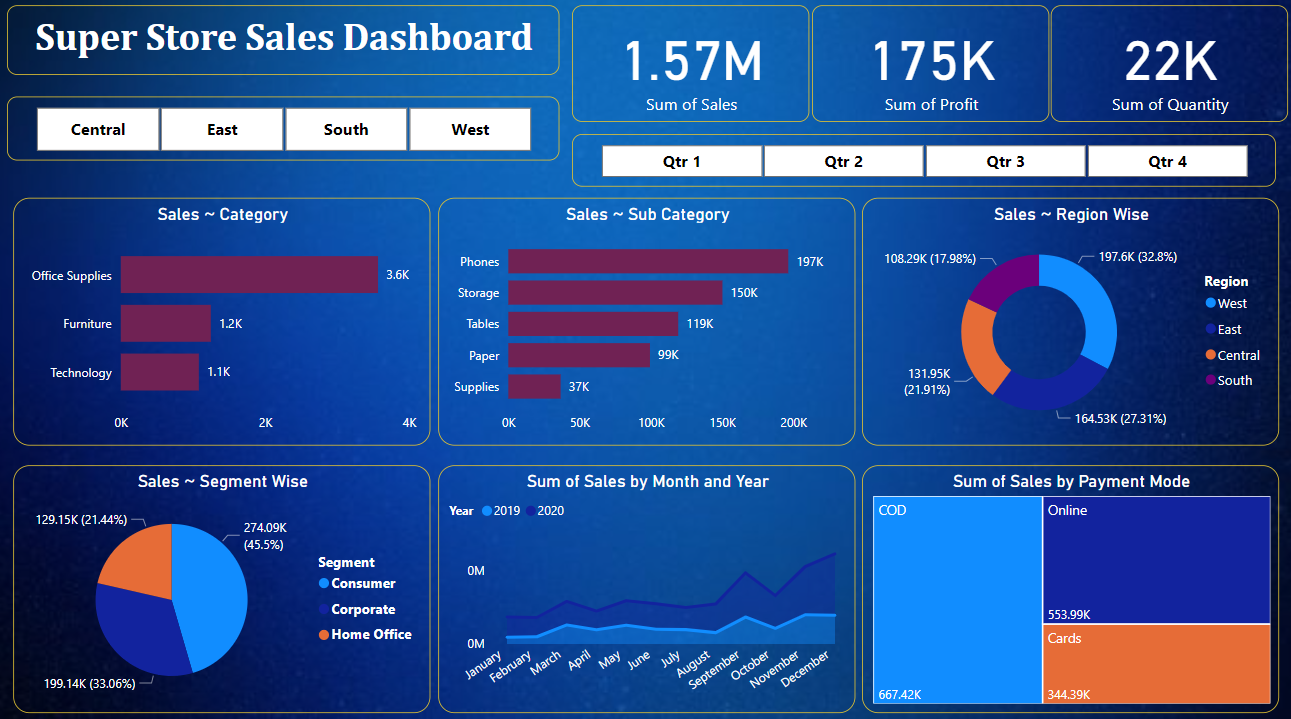

What the dashboard file says about the page in this screenshot:
{"tool":"powerbi","page":{"name":"Page 1","canvas":[1280,720],"ordinal":0},"visuals":[{"type":"clusteredBarChart","title":"Sales ~ Category","fields":{"Category":["Table1.Category"],"Y":["CountNonNull(Table1.Sales)"]},"box":[16,196.3,412.3,244.4],"z":0},{"type":"clusteredBarChart","title":"Sales ~ Sub Category","fields":{"Category":["Super Store Sales Dashboard.Sub-Category"],"Y":["Sum(Super Store Sales Dashboard.Sales)"]},"box":[435.8,196.3,412.3,244.4],"z":1000},{"type":"pieChart","title":"Sales ~ Segment Wise","fields":{"Y":["Sum(Super Store Sales Dashboard.Sales)"],"Category":["Super Store Sales Dashboard.Segment"]},"box":[16,460.5,412.3,244.4],"z":2000},{"type":"donutChart","title":"Sales ~ Region Wise","fields":{"Y":["Sum(Super Store Sales Dashboard.Sales)"],"Category":["Super Store Sales Dashboard.Region"]},"box":[854.3,196.3,412.3,244.4],"z":3000},{"type":"stackedAreaChart","fields":{"Category":["Super Store Sales Dashboard.Order Date.Variation.Date Hierarchy.Month"],"Y":["Sum(Super Store Sales Dashboard.Sales)"],"Series":["Super Store Sales Dashboard.Order Date.Variation.Date Hierarchy.Year"]},"box":[435.8,460.5,412.3,244.4],"z":4000},{"type":"treemap","fields":{"Values":["Sum(Super Store Sales Dashboard.Sales)"],"Group":["Super Store Sales Dashboard.Payment Mode"]},"box":[854.3,460.5,412.3,244.4],"z":5000},{"type":"slicer","fields":{"Values":["Super Store Sales Dashboard.Order Date.Variation.Date Hierarchy.Quarter"]},"box":[567.9,133.3,695.1,51.9],"z":6000},{"type":"card","fields":{"Values":["Sum(Super Store Sales Dashboard.Profit)"]},"box":[804.9,6.2,234.6,114.8],"z":7000},{"type":"card","fields":{"Values":["Sum(Super Store Sales Dashboard.Quantity)"]},"box":[1040.7,6.2,234.6,114.8],"z":8000},{"type":"card","fields":{"Values":["Sum(Super Store Sales Dashboard.Sales)"]},"box":[567.9,6.2,234.6,114.8],"z":9000},{"type":"textbox","box":[9.9,6.2,545.7,69.1],"z":10000},{"type":"slicer","fields":{"Values":["Super Store Sales Dashboard.Region"]},"box":[9.9,96.3,545.7,63],"z":11000}]}

Visuals, with their boxes in screenshot pixels (x1, y1, x2, y2), scaled from the page's 1280x720 canvas onto the 1291x719 screenshot:
"Sales ~ Category" clusteredBarChart: 16, 196, 432, 440
"Sales ~ Sub Category" clusteredBarChart: 440, 196, 855, 440
"Sales ~ Segment Wise" pieChart: 16, 460, 432, 704
"Sales ~ Region Wise" donutChart: 862, 196, 1277, 440
stackedAreaChart - Super Store Sales Dashboard.Order Date.Variation.Date Hierarchy.Month x Sum(Super Store Sales Dashboard.Sales): 440, 460, 855, 704
treemap - Sum(Super Store Sales Dashboard.Sales) x Super Store Sales Dashboard.Payment Mode: 862, 460, 1277, 704
slicer - Super Store Sales Dashboard.Order Date.Variation.Date Hierarchy.Quarter: 573, 133, 1274, 185
card - Sum(Super Store Sales Dashboard.Profit): 812, 6, 1048, 121
card - Sum(Super Store Sales Dashboard.Quantity): 1050, 6, 1286, 121
card - Sum(Super Store Sales Dashboard.Sales): 573, 6, 809, 121
textbox: 10, 6, 560, 75
slicer - Super Store Sales Dashboard.Region: 10, 96, 560, 159
